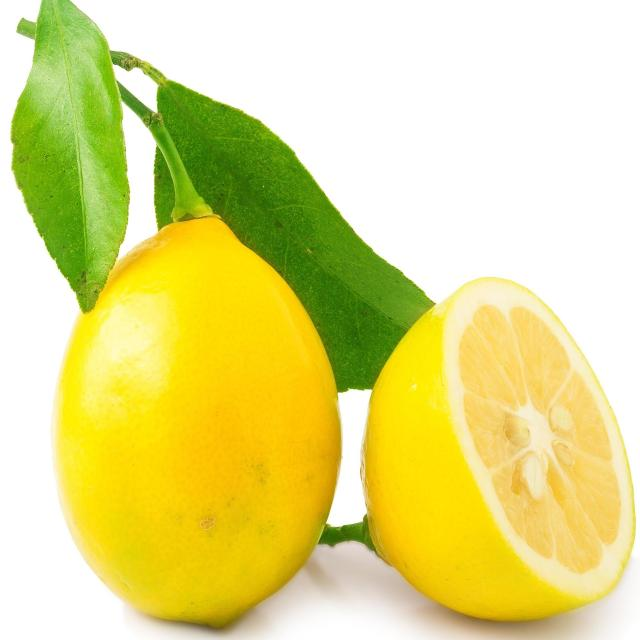lemon: (38, 202, 353, 638), (352, 269, 640, 632)
